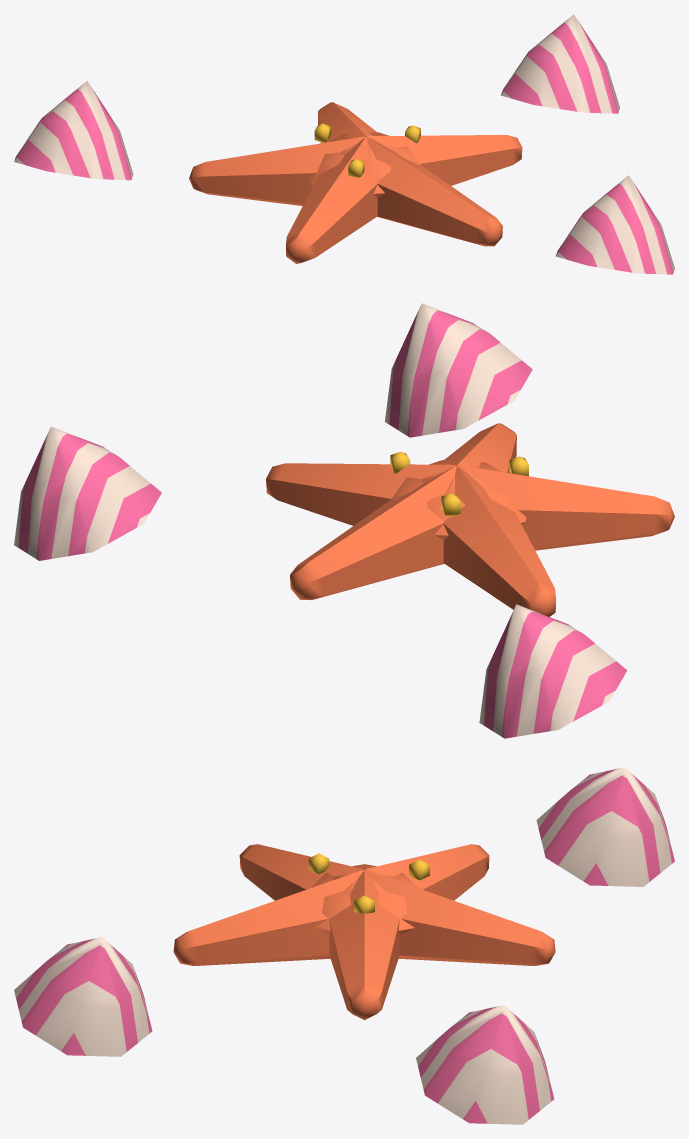
The model's file is W2_Starfish.fbx.
The picture shows the model from 3 angles, top to bottom: view 1: azimuth 30°, elevation 25°; view 2: azimuth 150°, elevation 25°; view 3: azimuth 270°, elevation 25°; orthographic projection. The views are drawn at different scales.
Visible parts, largest first — view 1: W2_Starfish; view 2: W2_Starfish; view 3: W2_Starfish.
Boxes of the visible parts, bbox=[...] form: W2_Starfish: bbox=[14, 14, 674, 274]; W2_Starfish: bbox=[14, 303, 674, 738]; W2_Starfish: bbox=[14, 767, 674, 1124].
Bounding box in the file's own units: 1.74 × 0.2962 × 1.64.
